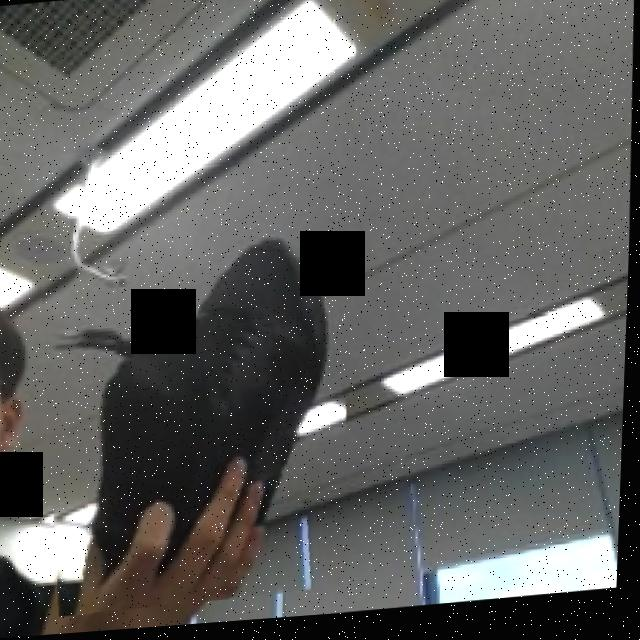shoe: (29, 213, 358, 620)
